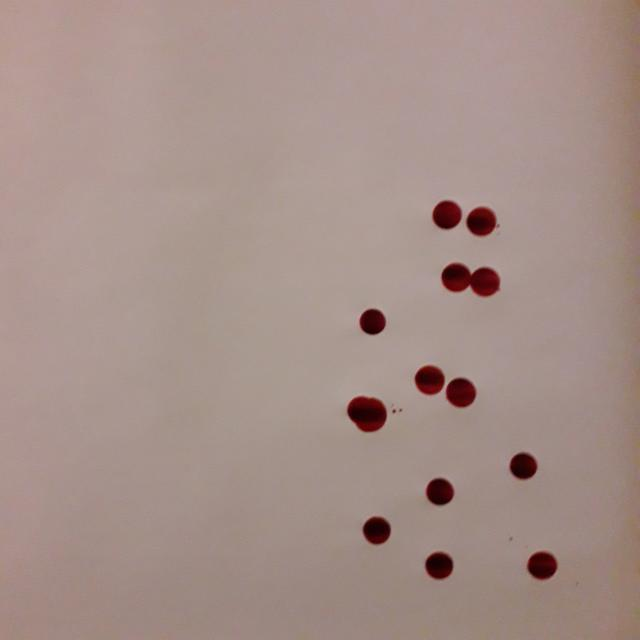wound: (428, 178, 520, 326), (395, 345, 495, 432), (403, 522, 476, 619), (332, 287, 414, 362), (510, 529, 574, 609), (340, 496, 408, 566), (491, 436, 563, 502), (333, 388, 395, 447), (413, 456, 463, 526)
